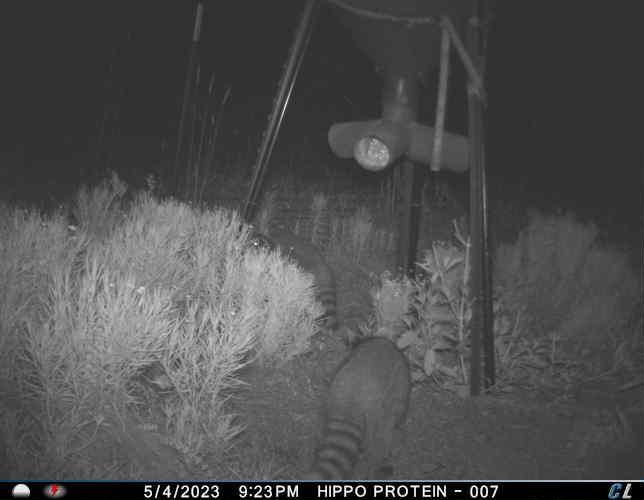Raccoon: (311, 336, 418, 480), (243, 220, 343, 329)
